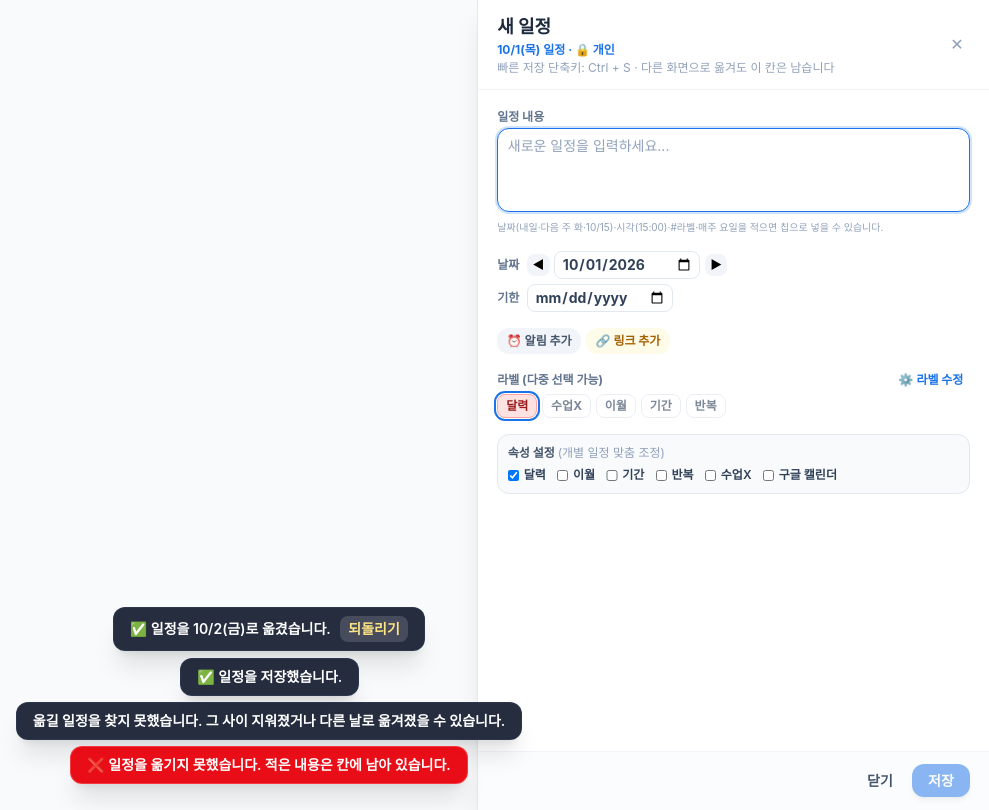
Test: 일정 쓰는 칸의 날짜 › 새 일정: 날짜를 고르면 저장할 날짜(칸의 날짜)가 곧바로 바뀌고 적던 글은 남는다
In the text box with placeholder "새로운 일정을 입력하세요...": {"x": 734, "y": 170} [497,128,970,212], type "학년 협의회"
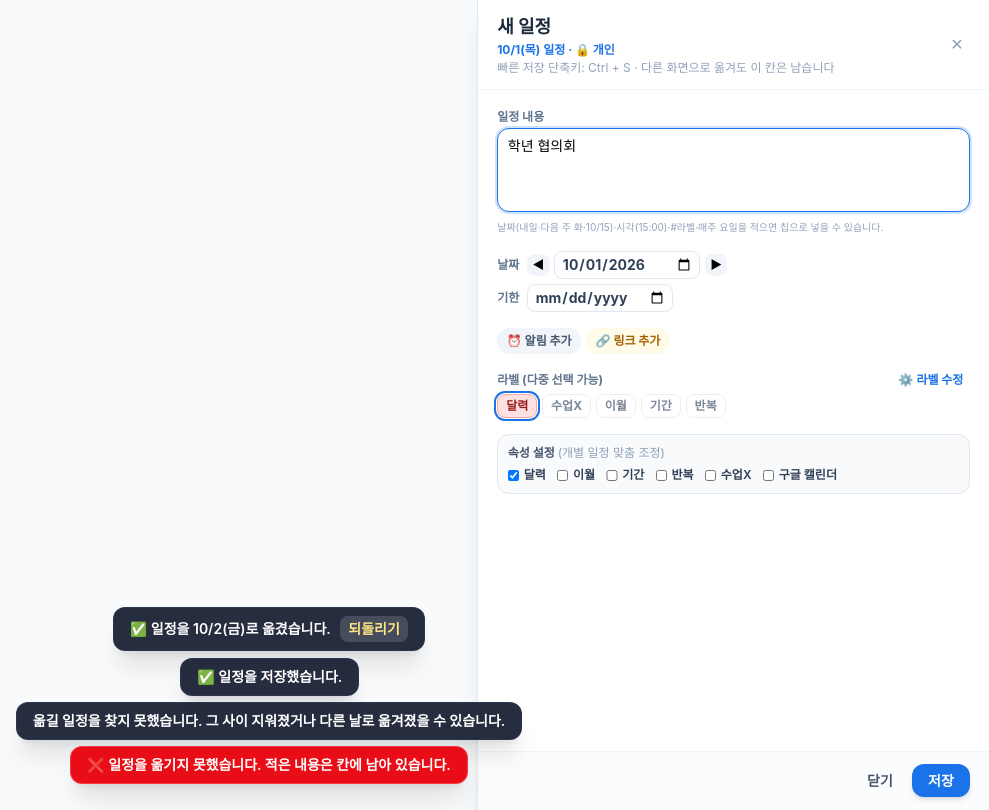
In the date field named "일정 날짜": {"x": 627, "y": 265} [554,251,700,279], type "2026-10-15"
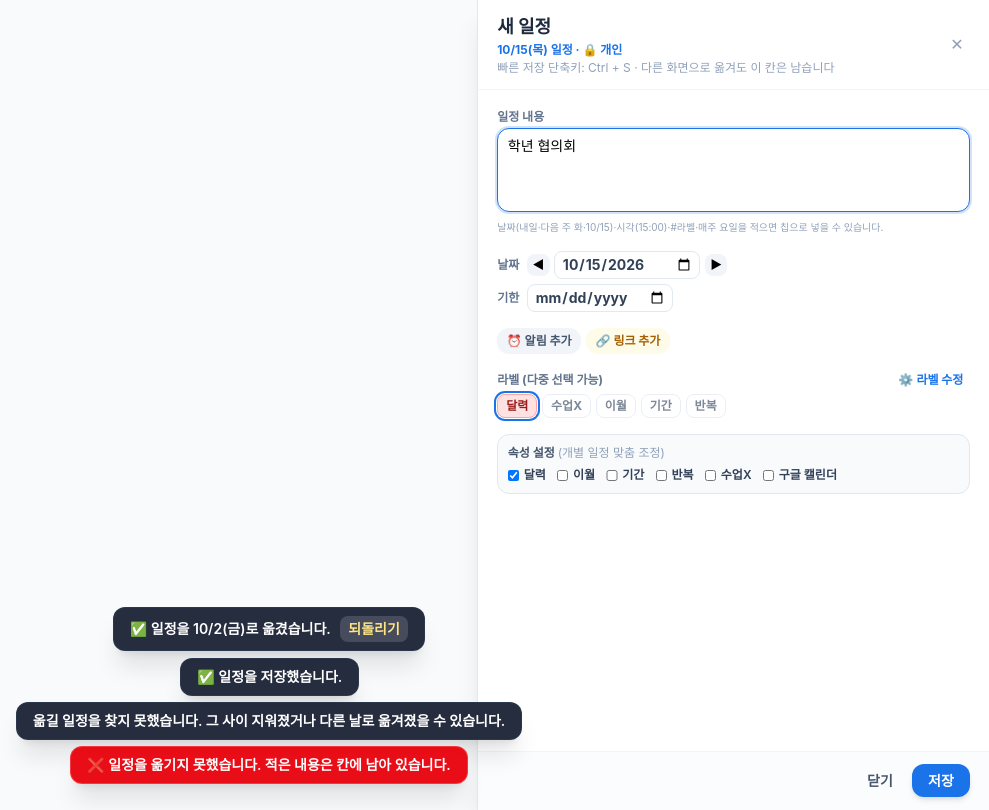
Check: the text "10/15(목) 일정 · 🔒 개인" is shown, box [497,42,622,57]
